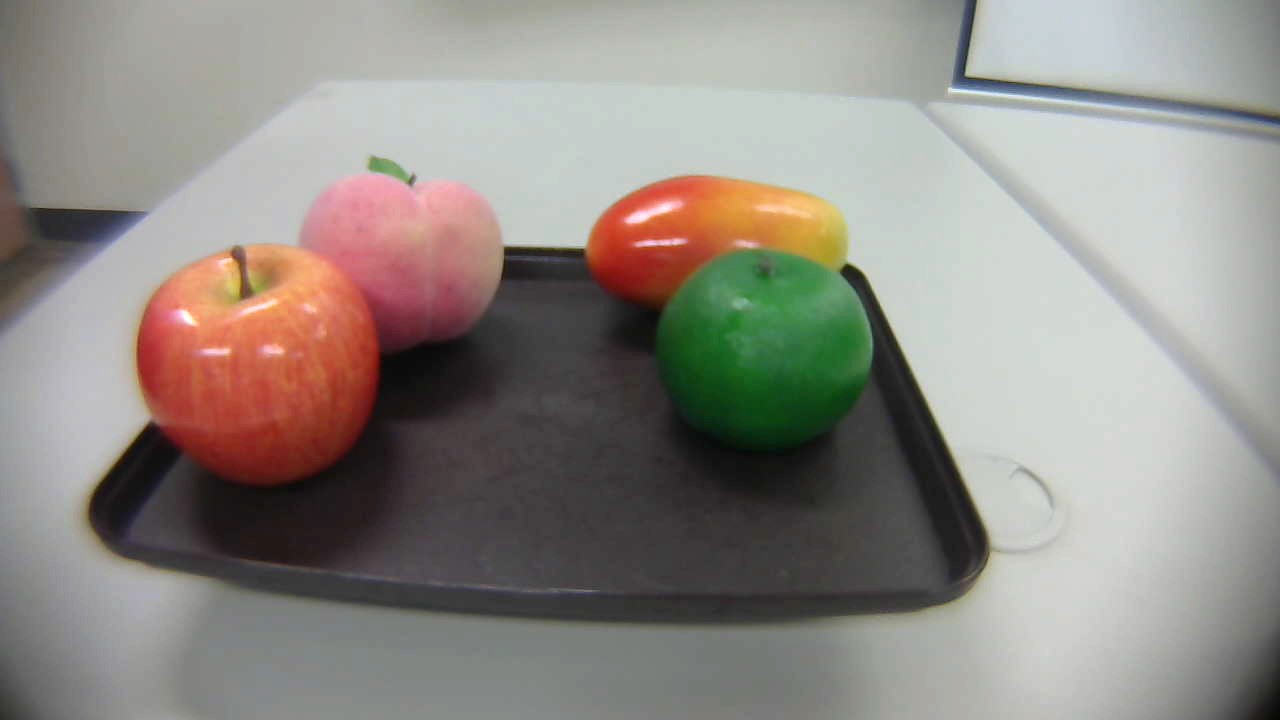green orange: (658, 249, 880, 459)
peach: (290, 144, 507, 348)
red apple: (137, 244, 383, 488)
red mango: (572, 166, 862, 324)
